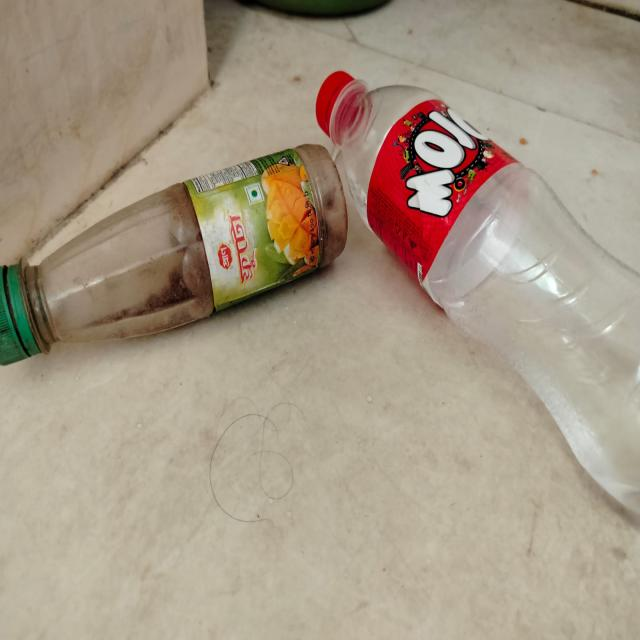plastic: (314, 67, 640, 514), (0, 146, 347, 364)
